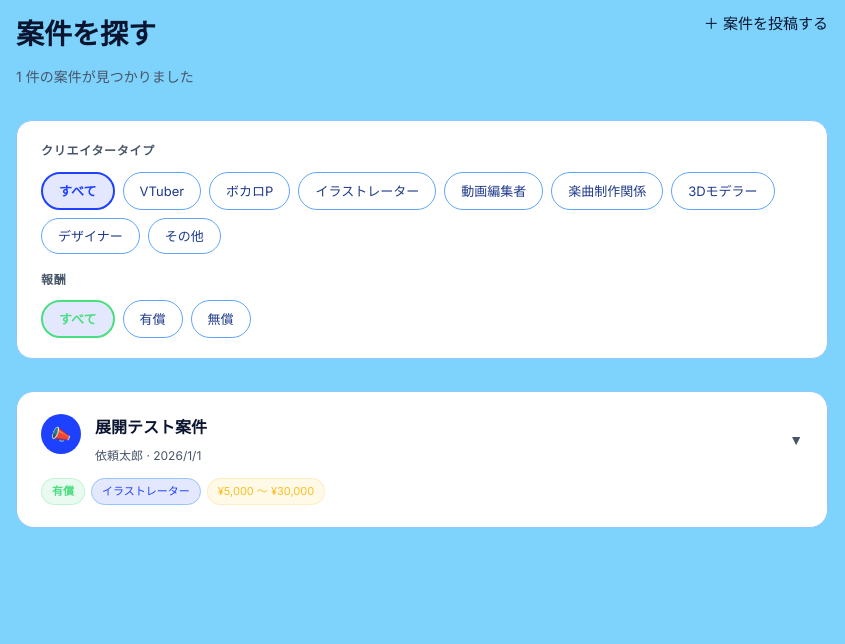
Test: JobListingsClient › [happy] カードをクリックすると詳細（説明文）が展開される
Expected: the text "ユニーク説明文XYZ" is not shown
Click the text "展開テスト案件".
click(422, 460)  # box [16,392,828,528]
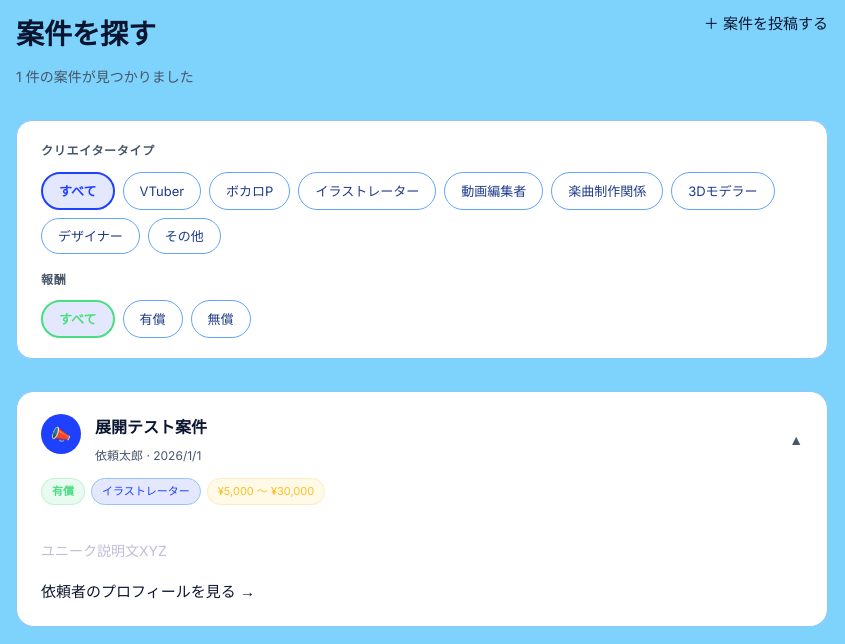
Expected: the text "ユニーク説明文XYZ" is shown, [41,542,167,559]
